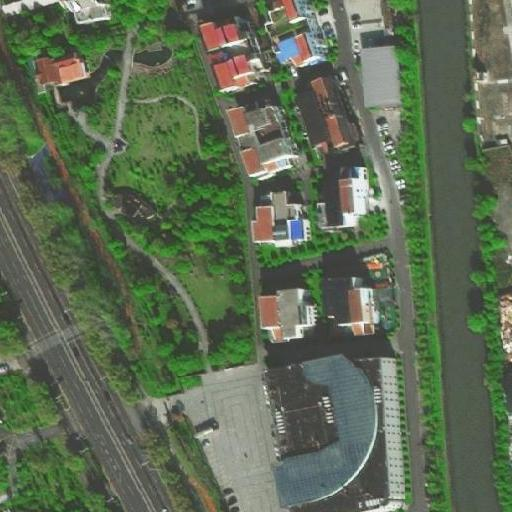building: (279, 351, 407, 507), (195, 19, 274, 95), (230, 97, 303, 179), (304, 69, 360, 148), (254, 189, 310, 245), (259, 287, 314, 339), (359, 38, 402, 102), (333, 280, 384, 333), (332, 168, 368, 233), (38, 51, 89, 85), (376, 7, 417, 35), (494, 283, 512, 343), (67, 2, 114, 23)
